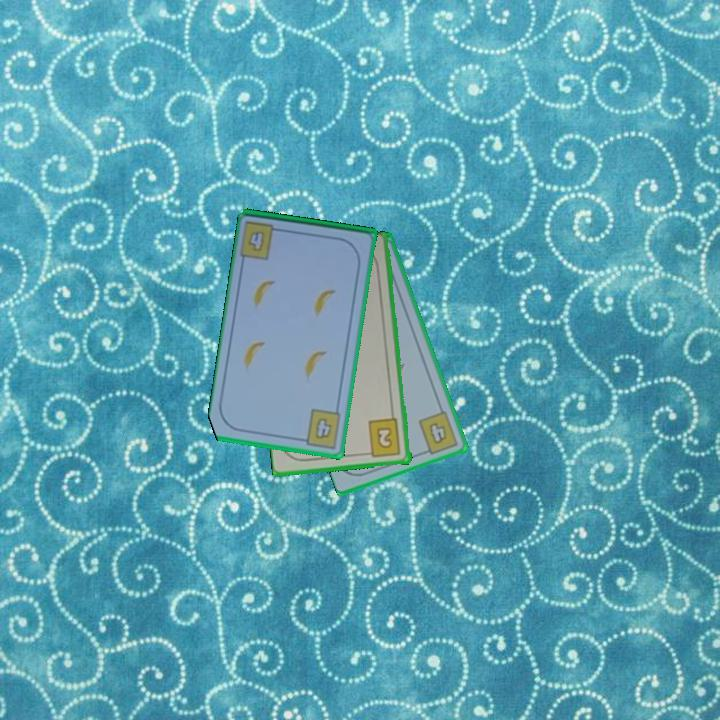2b: (362, 416, 404, 460)
4b: (415, 407, 461, 458), (296, 406, 344, 451), (245, 227, 268, 255)
